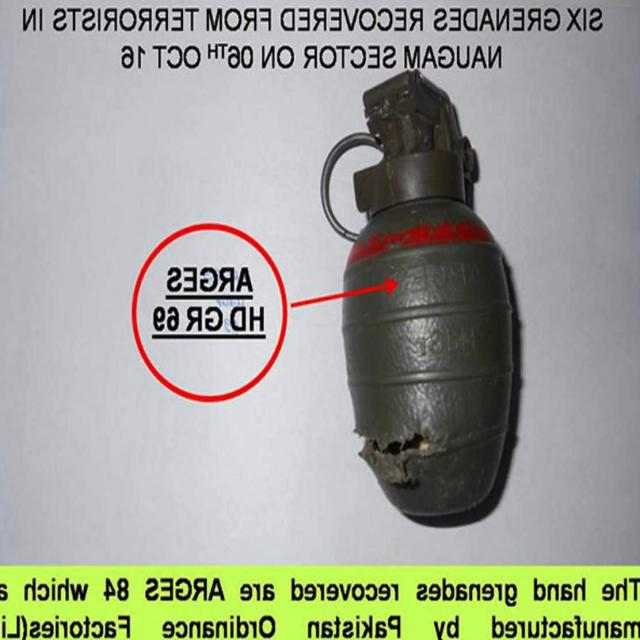grenade: (320, 73, 516, 519)
